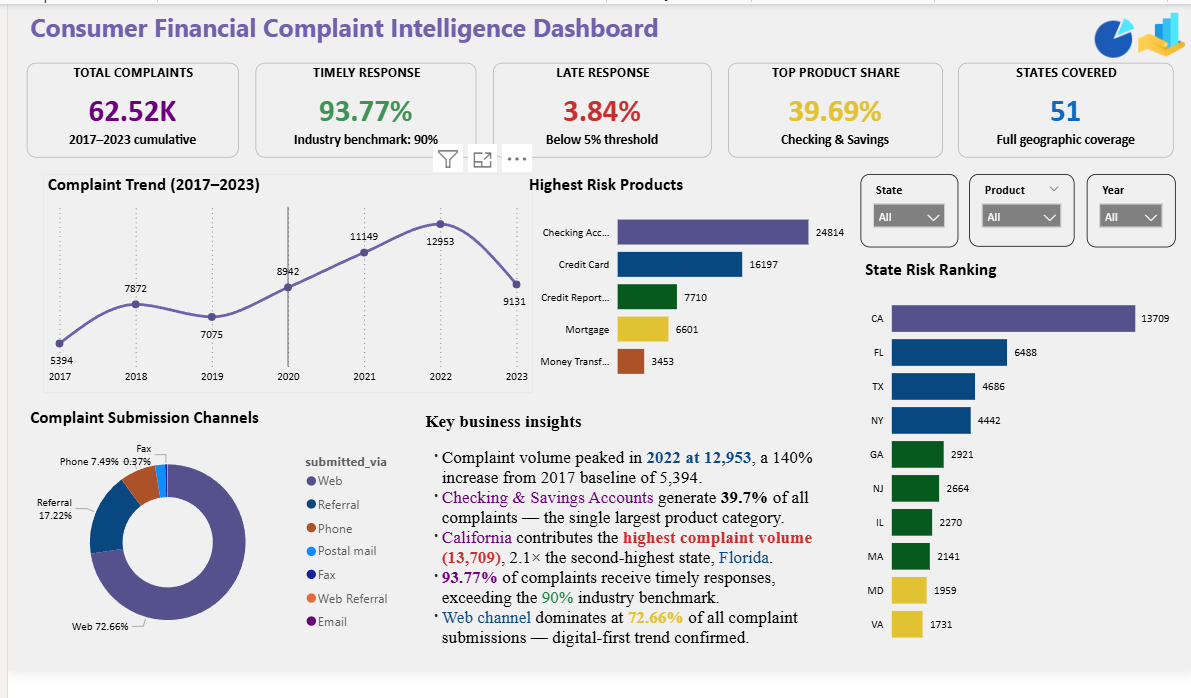

The dashboard page shown, as its layout file describes it:
{"tool":"powerbi","page":{"name":"Executive Overview","canvas":[1280,720],"ordinal":0},"visuals":[{"type":"card","title":"TOTAL COMPLAINTS","fields":{"Values":["KPIS.Total Complaints"]},"box":[19.7,63.2,228.8,102.5],"z":0},{"type":"card","title":"TOP PRODUCT SHARE","fields":{"Values":["KPIS.Top Product Share %"]},"box":[777.7,63.2,231.6,102.5],"z":1000},{"type":"card","title":"LTE RESPONSE","fields":{"Values":["KPIS.Late Response %"]},"box":[523.6,63.2,235.8,102.5],"z":2000},{"type":"card","title":"STATES COVERED","fields":{"Values":["KPIS.Total States"]},"box":[1024.8,63.2,233,102.5],"z":3000},{"type":"card","title":"TIMELY RESPONSE","fields":{"Values":["KPIS.Timely Response %"]},"box":[266.7,63.2,238.6,102.5],"z":4000},{"type":"lineChart","title":"Complaint Trend (2017–2023)","fields":{"Category":["Dim_Date.Year"],"Y":["KPIS.Total Complaints"]},"box":[37.9,183.9,529.2,235.8],"z":5000},{"type":"clusteredBarChart","title":"Highest Risk Products","fields":{"Y":["KPIS.Total Complaints"],"Category":["public complaints.Product_Short"]},"box":[557.3,183.9,351,235.8],"z":6000},{"type":"donutChart","title":"Complaint Submission Channels","fields":{"Category":["public complaints.submitted_via"],"Y":["KPIS.Total Complaints"]},"box":[18.2,433.8,411.3,270.9],"z":7000},{"type":"clusteredBarChart","title":"State Risk Ranking","fields":{"Category":["public complaints.state"],"Y":["KPIS.Total Complaints"]},"box":[920.1,275.2,338.6,429],"z":8000},{"type":"slicer","fields":{"Values":["Dim_Date.Year"]},"box":[1164.3,183.5,95.8,79.6],"z":9000},{"type":"slicer","fields":{"Values":["public complaints.state"]},"box":[920.1,183.5,105.2,79.6],"z":10000},{"type":"slicer","fields":{"Values":["public complaints.product"]},"box":[1038.1,183.5,113.3,78.2],"z":11000},{"type":"textbox","title":"Consumer Financial Complaint Intelligence Dashboard","box":[18.2,7,704.7,77.2],"z":12000},{"type":"textbox","box":[445,433.8,463.3,270.9],"z":13000},{"type":"image","box":[1211.5,0,67.4,67.4],"z":14000},{"type":"image","box":[1163.8,7,57.6,63.2],"z":15000}]}

Visuals, with their boxes on the page's 1280x720 design canvas (x1, y1, x2, y2). These are canvas units, not pixel positions in the 1191x698 screenshot, which may show the page scaled, cropped or inside an application window:
"TOTAL COMPLAINTS" card: <bbox>20, 63, 248, 166</bbox>
"TOP PRODUCT SHARE" card: <bbox>778, 63, 1009, 166</bbox>
"LTE RESPONSE" card: <bbox>524, 63, 759, 166</bbox>
"STATES COVERED" card: <bbox>1025, 63, 1258, 166</bbox>
"TIMELY RESPONSE" card: <bbox>267, 63, 505, 166</bbox>
"Complaint Trend (2017–2023)" lineChart: <bbox>38, 184, 567, 420</bbox>
"Highest Risk Products" clusteredBarChart: <bbox>557, 184, 908, 420</bbox>
"Complaint Submission Channels" donutChart: <bbox>18, 434, 430, 705</bbox>
"State Risk Ranking" clusteredBarChart: <bbox>920, 275, 1259, 704</bbox>
slicer - Dim_Date.Year: <bbox>1164, 184, 1260, 263</bbox>
slicer - public complaints.state: <bbox>920, 184, 1025, 263</bbox>
slicer - public complaints.product: <bbox>1038, 184, 1151, 262</bbox>
"Consumer Financial Complaint Intelligence Dashboard" textbox: <bbox>18, 7, 723, 84</bbox>
textbox: <bbox>445, 434, 908, 705</bbox>
image: <bbox>1212, 0, 1279, 67</bbox>
image: <bbox>1164, 7, 1221, 70</bbox>
